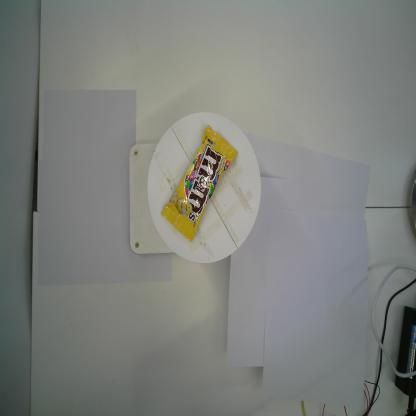Chocolate: (161, 125, 238, 243)
